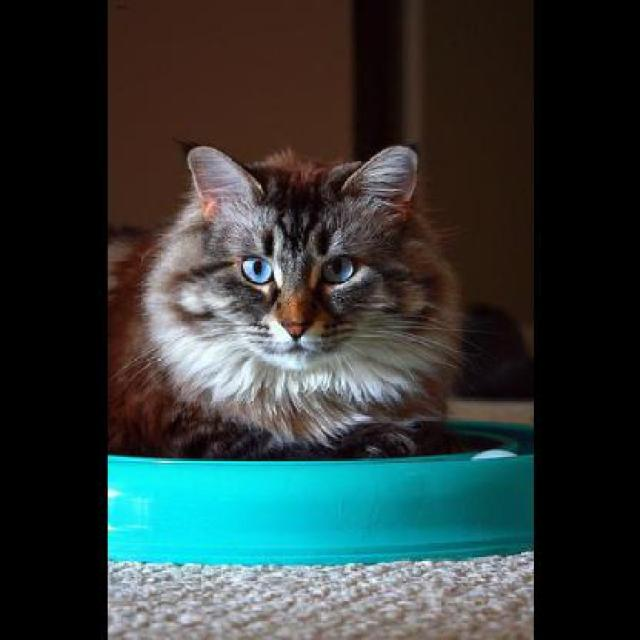unauthorized: (107, 136, 476, 458)
